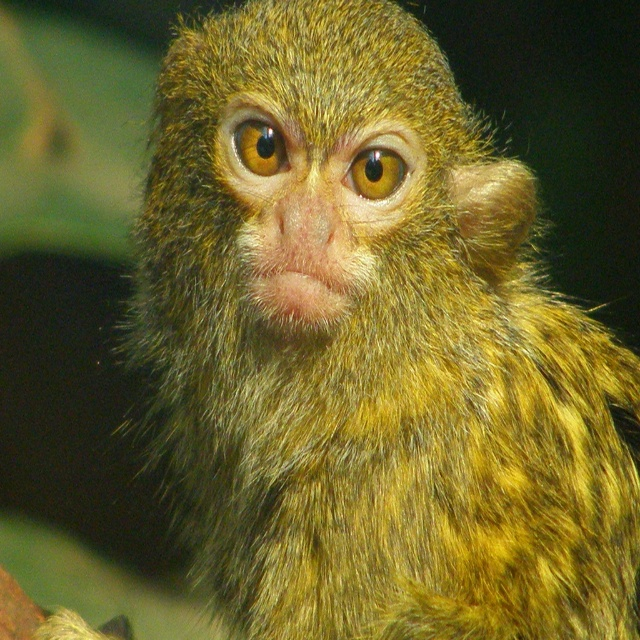Monkey: (69, 7, 640, 640)
